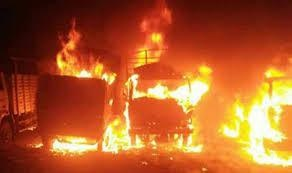fire: (48, 7, 237, 160), (219, 59, 291, 161)
